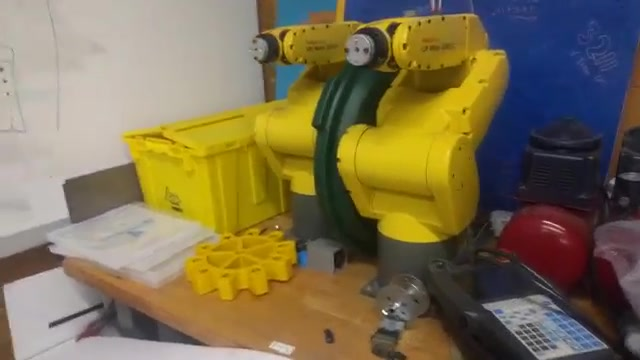gear: (178, 220, 298, 309)
